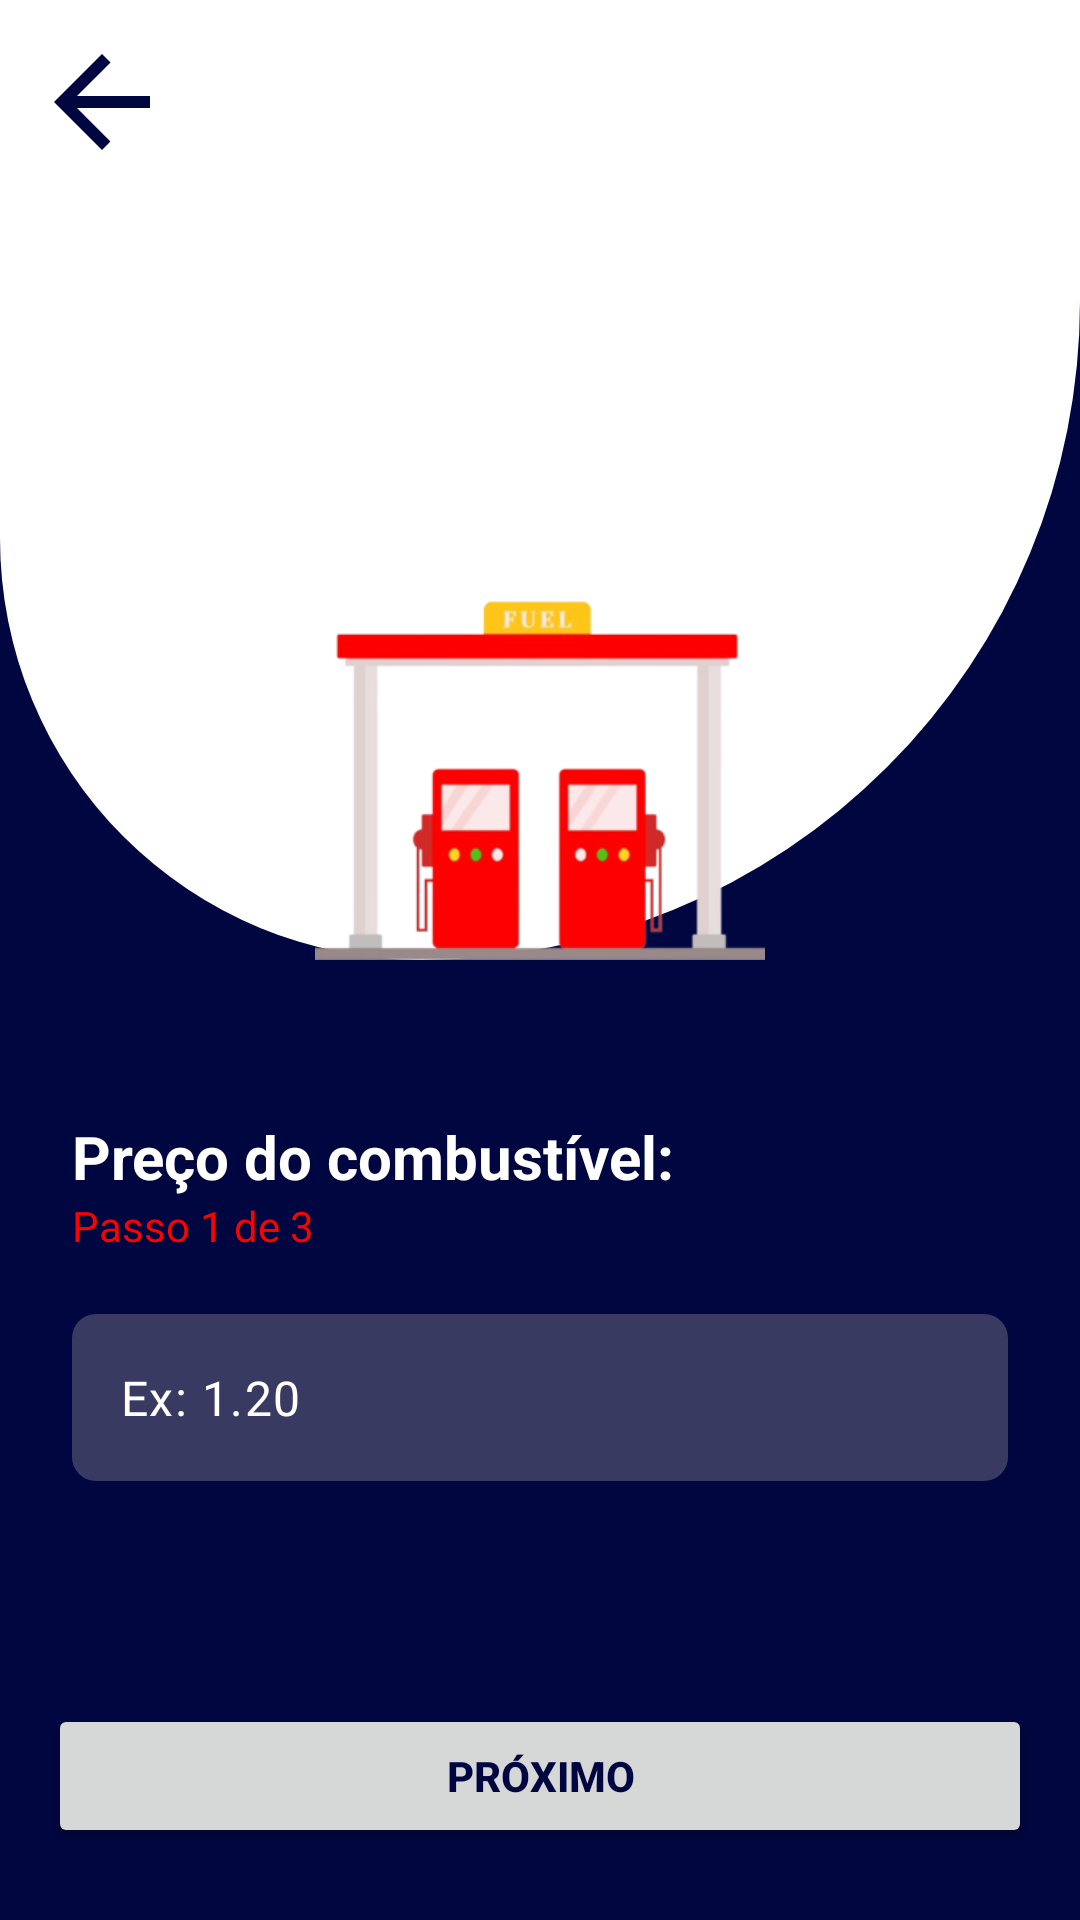

Where icons sit on this 1080w x 1920h app screen, as {"left": x1, "top": y1, "right": x2, "bottom": y2}:
Botão voltar: {"left": 54, "top": 54, "right": 150, "bottom": 150}
